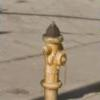Hydrant: (31, 17, 73, 100)
